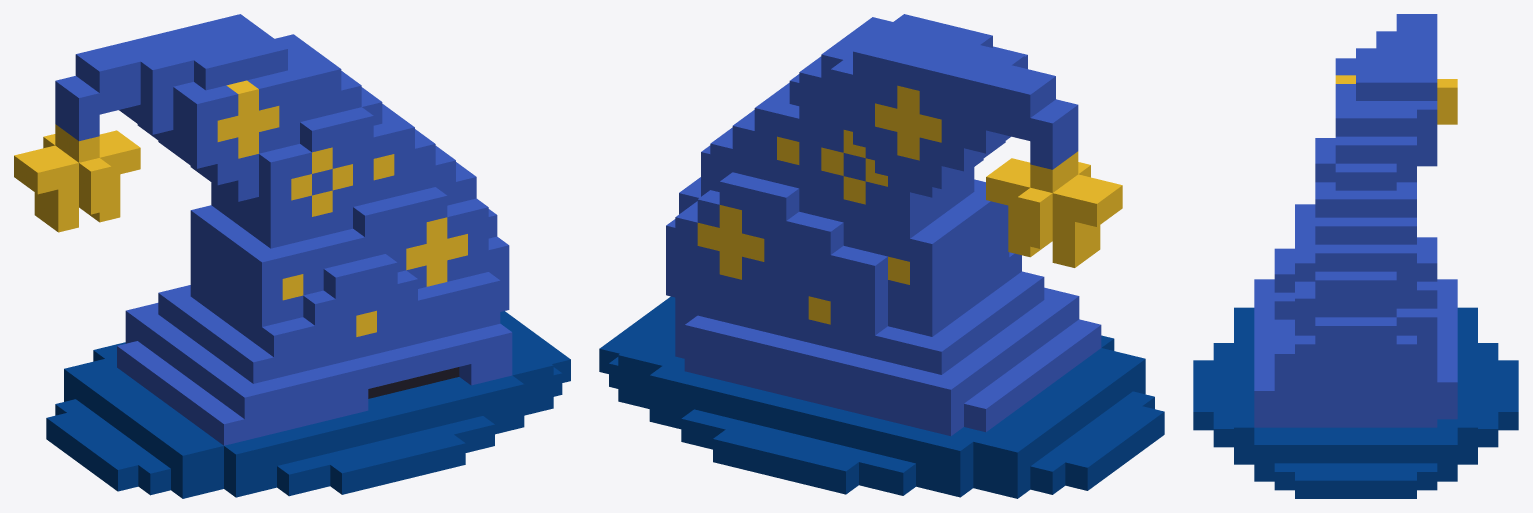
The model's file is hatNounOpaque.glb.
The picture shows the model from 3 angles, left to right: view 1: azimuth 30°, elevation 25°; view 2: azimuth 150°, elevation 25°; view 3: azimuth 270°, elevation 25°; orthographic projection. The views are drawn at different scales.
Visible parts, largest first — view 1: MagicHead; view 2: MagicHead; view 3: MagicHead.
Boxes of the visible parts, left/top/right/bottom form: MagicHead: left=14, top=14, right=570, bottom=498; MagicHead: left=599, top=14, right=1164, bottom=498; MagicHead: left=1193, top=14, right=1518, bottom=498.
Bounding box in the file's own units: 23 × 17 × 16.
1 material, 1 textured.
